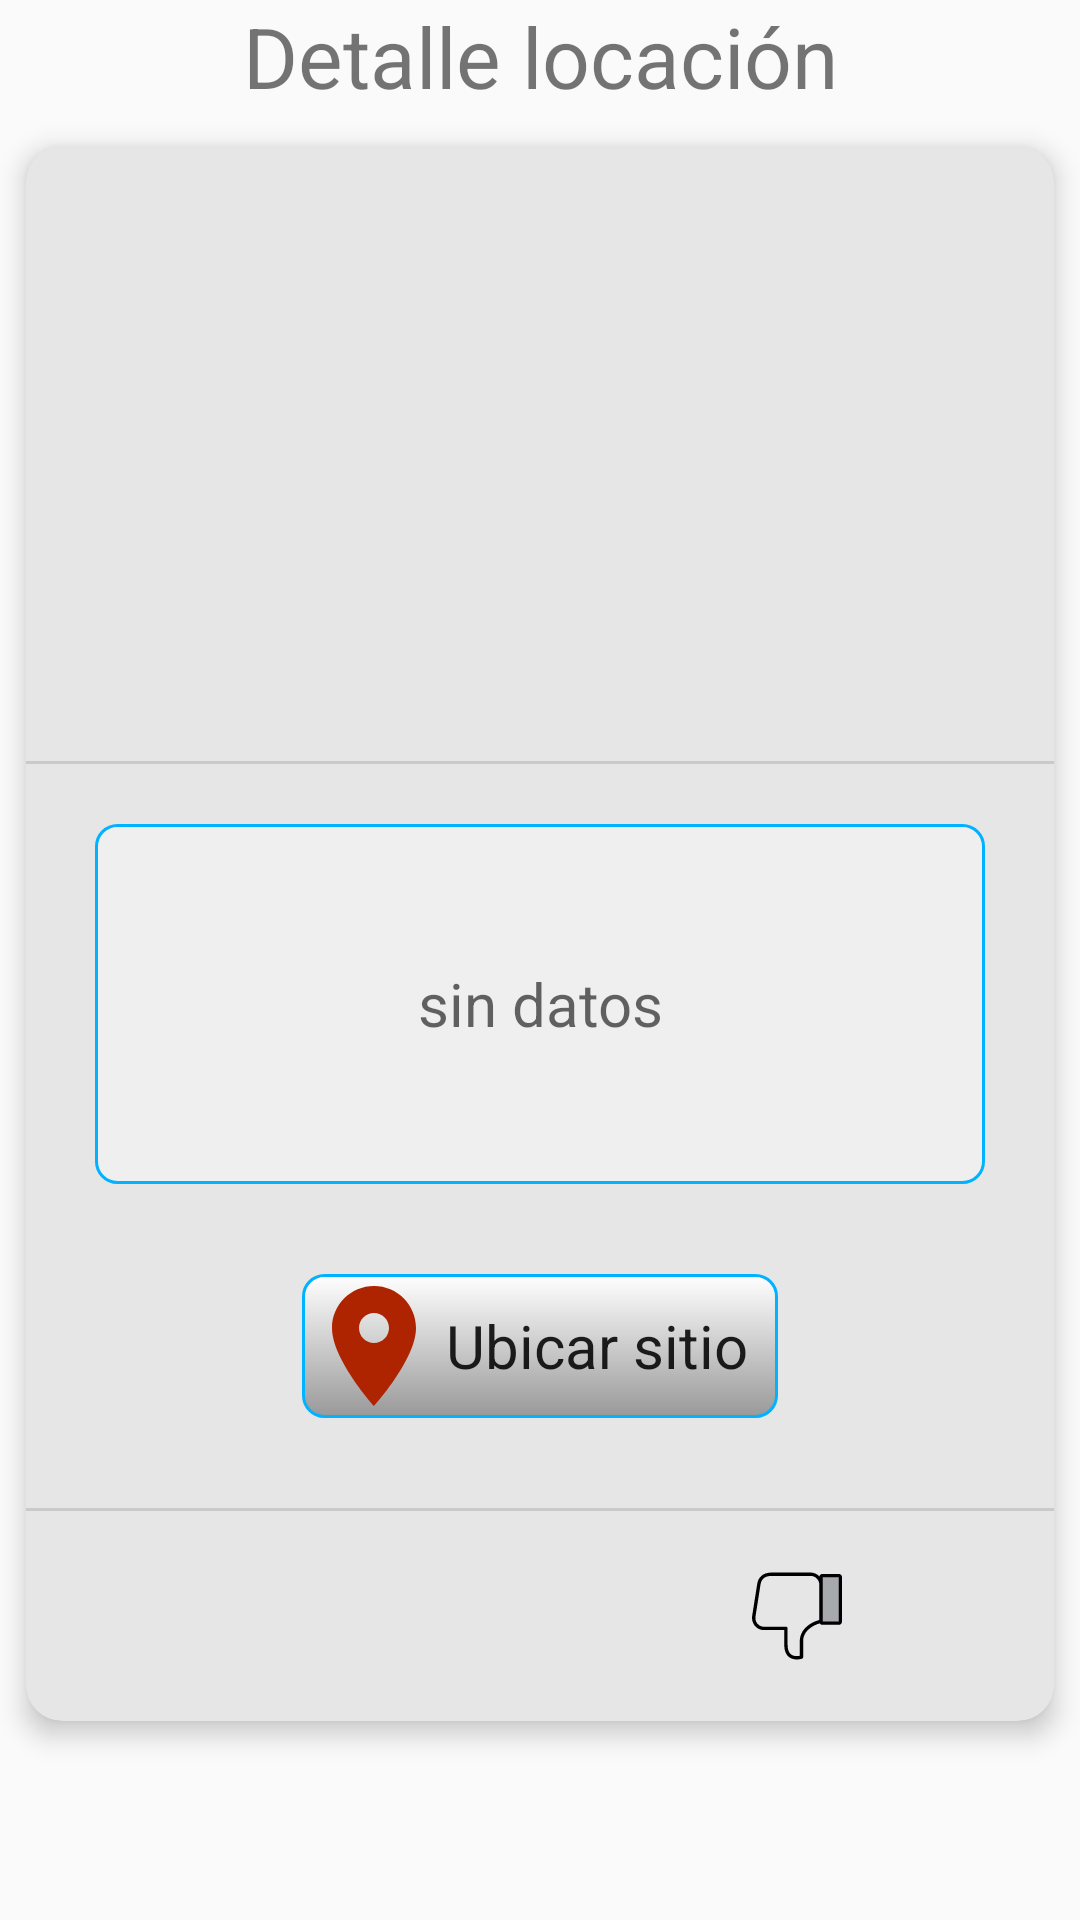

Icon click points for this 1080w x 1920h phone screenshot, format (x,y):
dislike: (797,1616)
